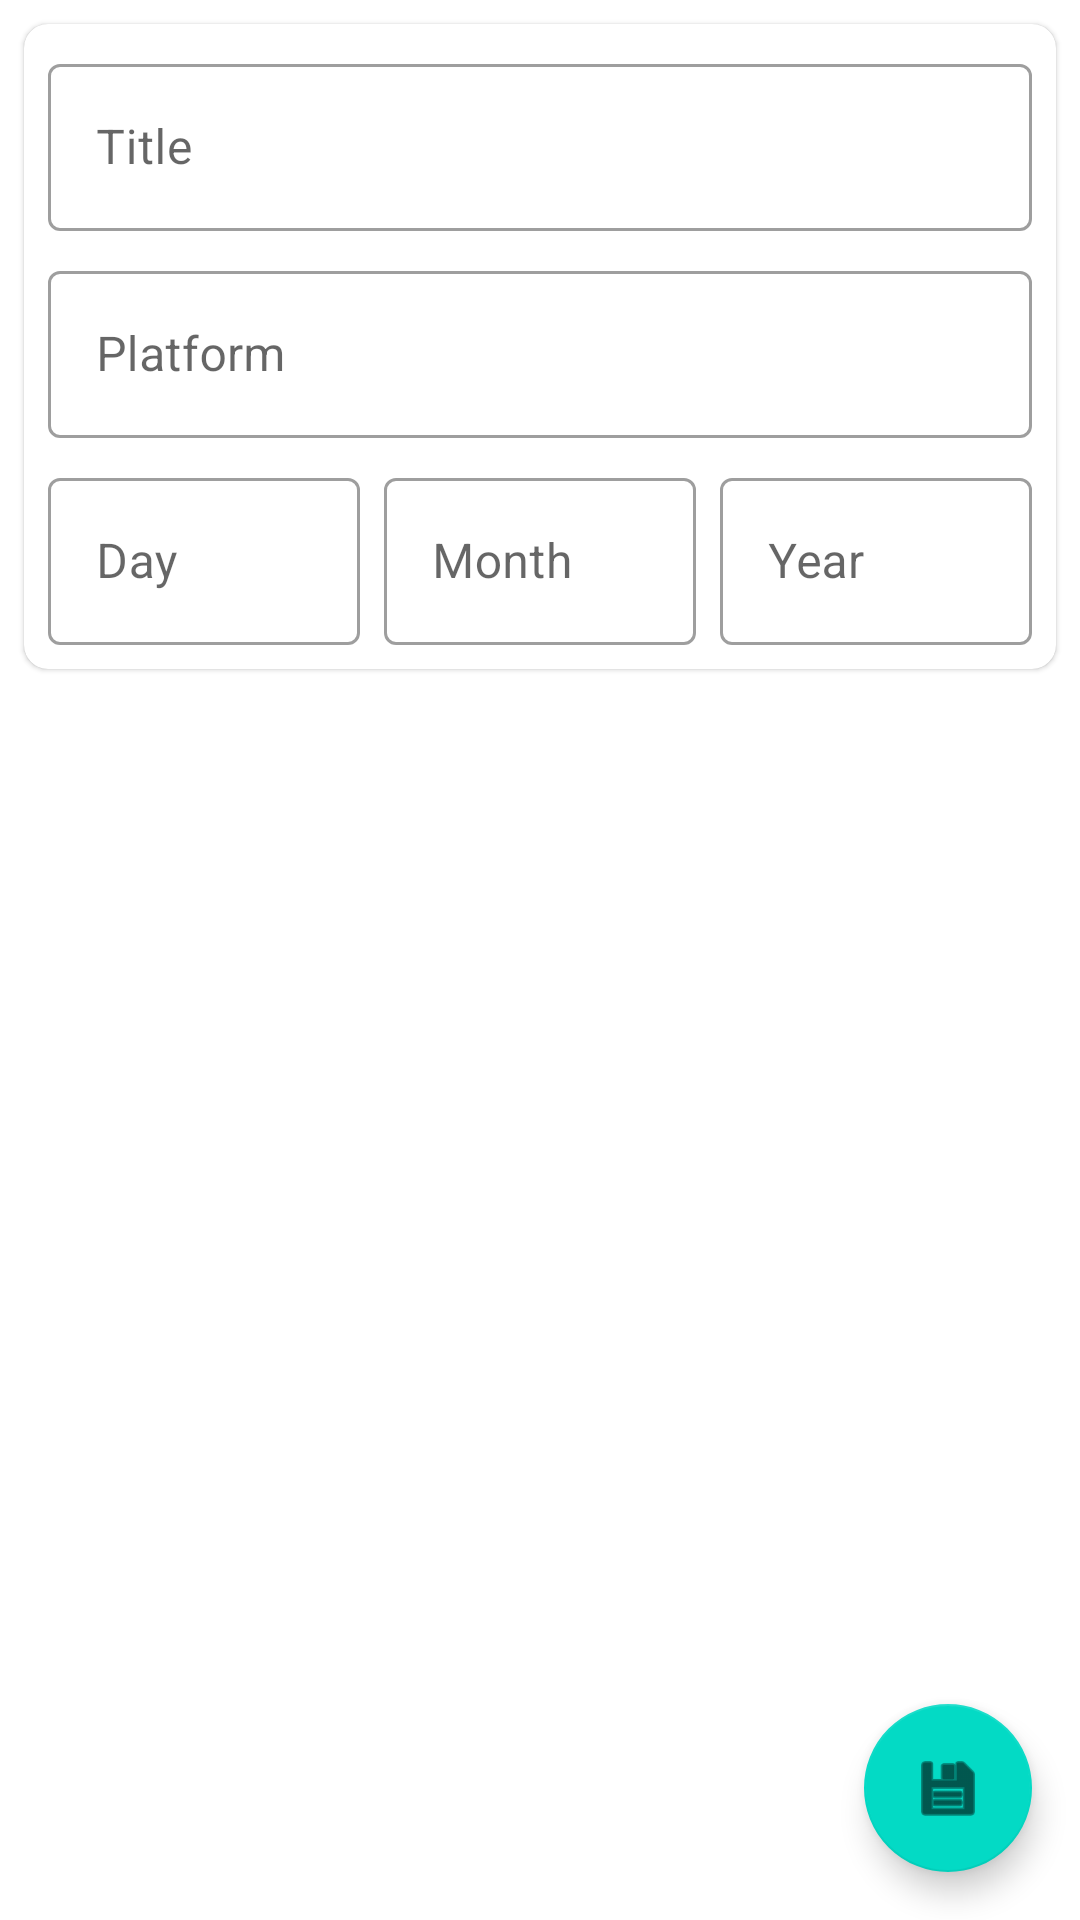

Named icons in this screenshot (1080*1920) and their centers, (x=x, y=y):
FAB to save game: (x=948, y=1788)
